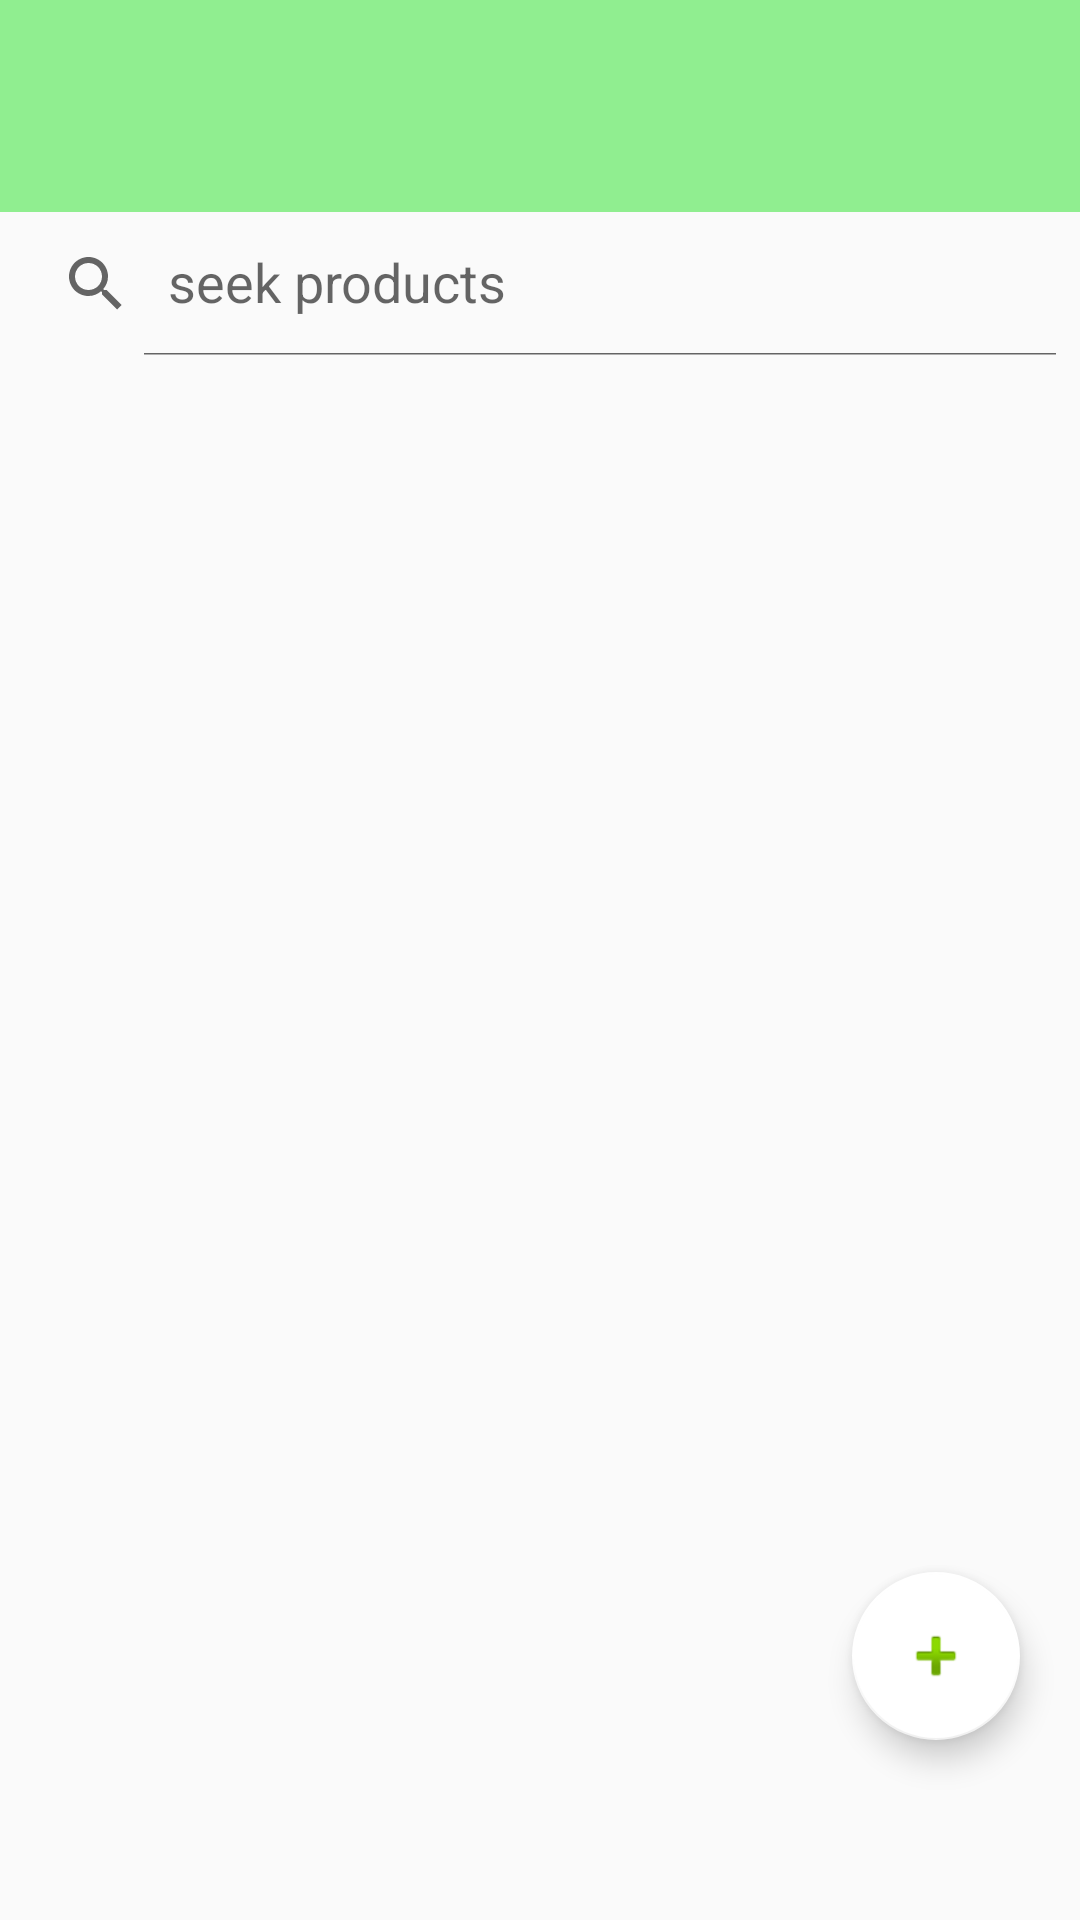

Icons on this 1080x1920 Android screen, each with the point to tap as point (x, y):
add: point (939, 1688)
